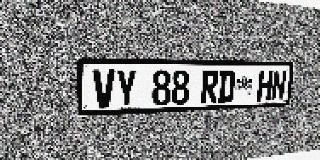8: (152, 70, 172, 106), (171, 70, 190, 105)
D: (217, 70, 235, 103)
H: (257, 70, 273, 101)
N: (271, 70, 287, 100)
R: (201, 70, 219, 104)
V: (93, 69, 115, 108)
Y: (116, 69, 137, 107)
